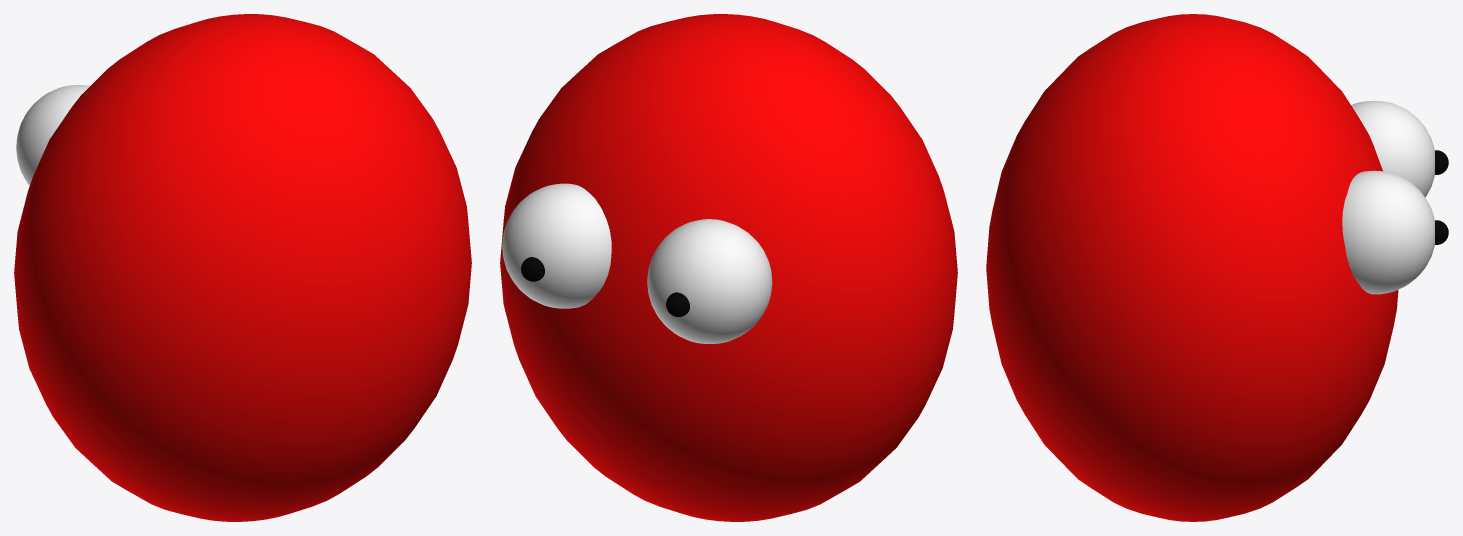
The model's file is puppet-red.glb.
3 renders of one model, left to right at view 1: azimuth 30°, elevation 25°; view 2: azimuth 150°, elevation 25°; view 3: azimuth 270°, elevation 25°, orthographic.
Size of the model in its own units: 0.9 by 1 by 0.894.
